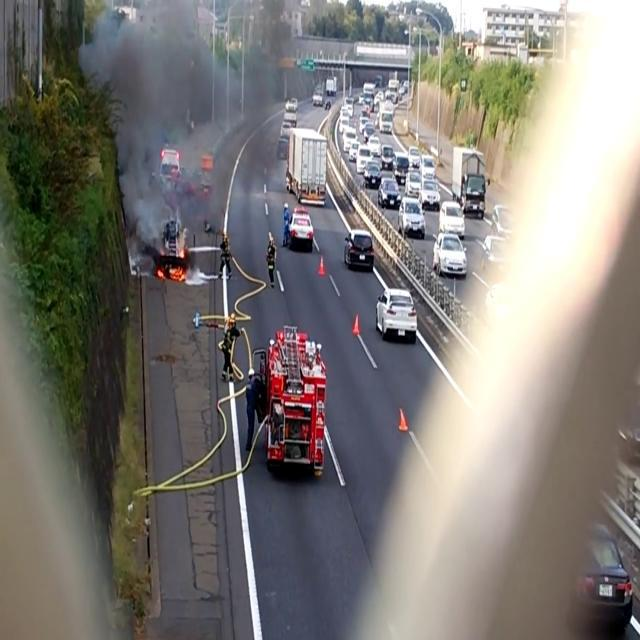Smoke: (80, 0, 292, 222)
